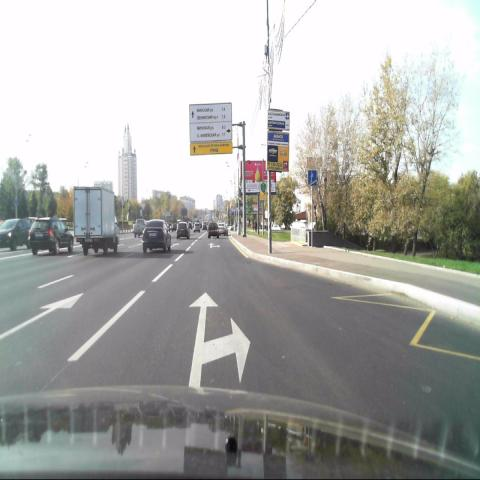6_6: (308, 169, 317, 186)
